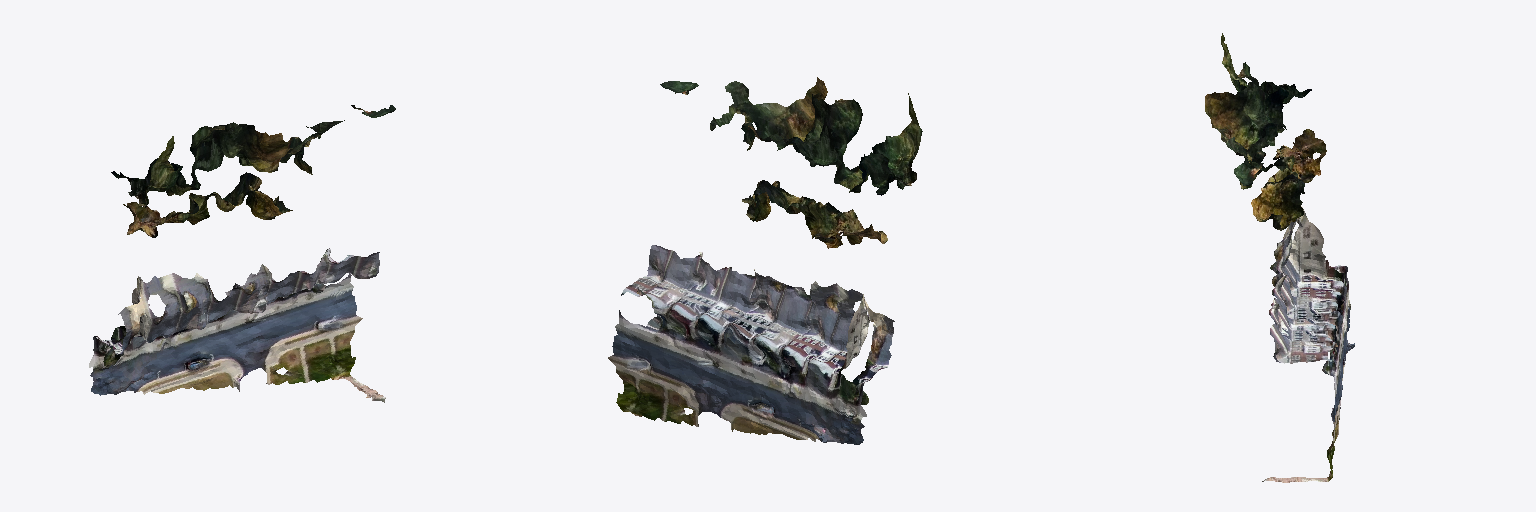
The picture shows the model from 3 angles: view 1: azimuth 30°, elevation 25°; view 2: azimuth 150°, elevation 25°; view 3: azimuth 270°, elevation 25°; orthographic projection.
Bounding box in the file's own units: 67.34 × 81.47 × 32.93.
Materials: 1 (1 with a texture image).